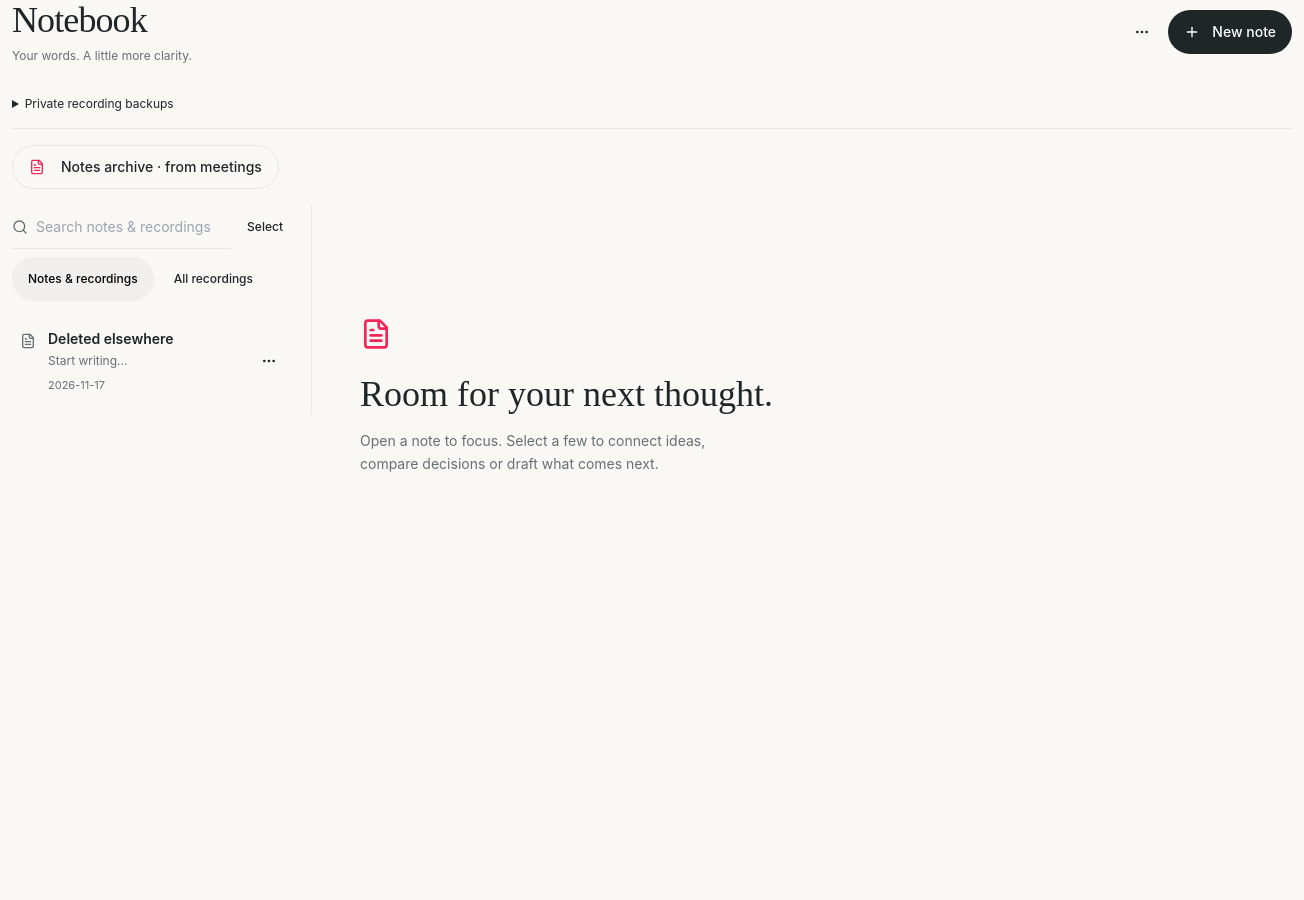
one selection-driven notebook › keeps unsaved writing mounted when another tab deletes its row without resurrecting the note
Click the button "Deleted elsewhere Start writing… 2026-11-17".
click(128, 361)  # box 12,313 -> 243,410
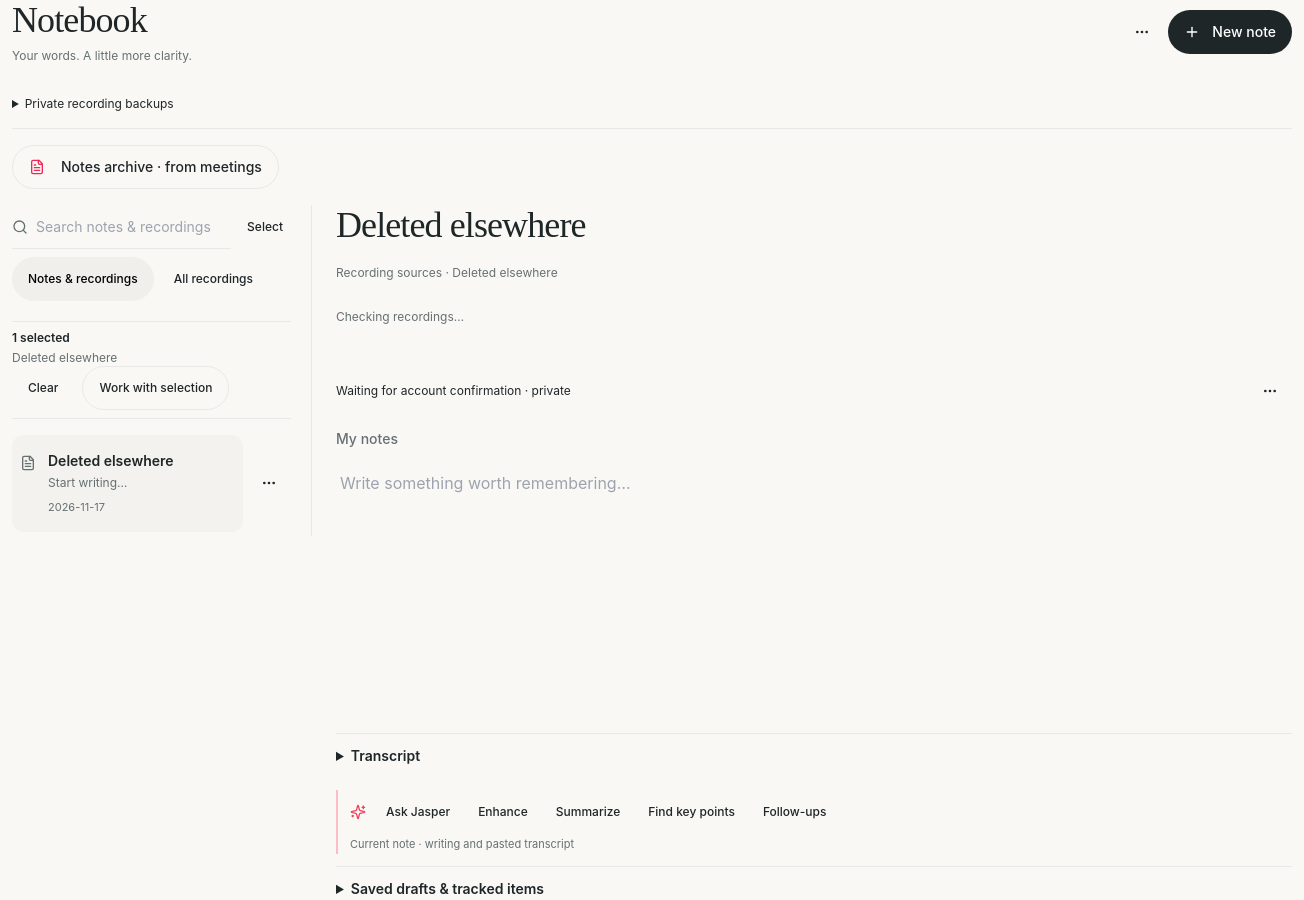
Type "Keep this recovery visible" into the text box named "My original notes".
click(814, 589); type("Keep this recovery visible")  # box 336,461 -> 1292,717
(page scrolled)
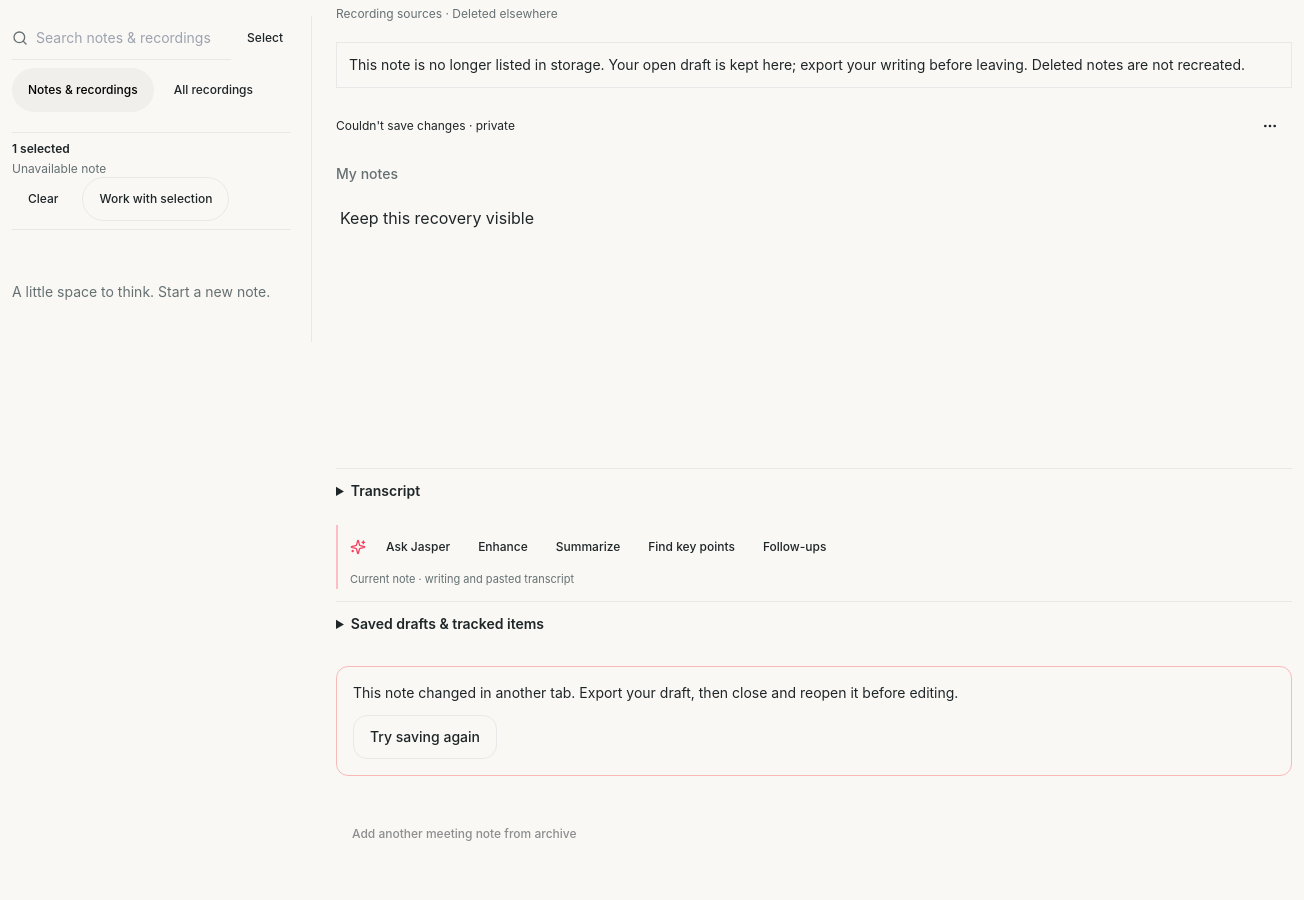
Expected: the text "This note is no longer listed" is shown, 349,56 -> 1245,73
Expected: the button "Try saving again" is shown, 353,715 -> 497,759
